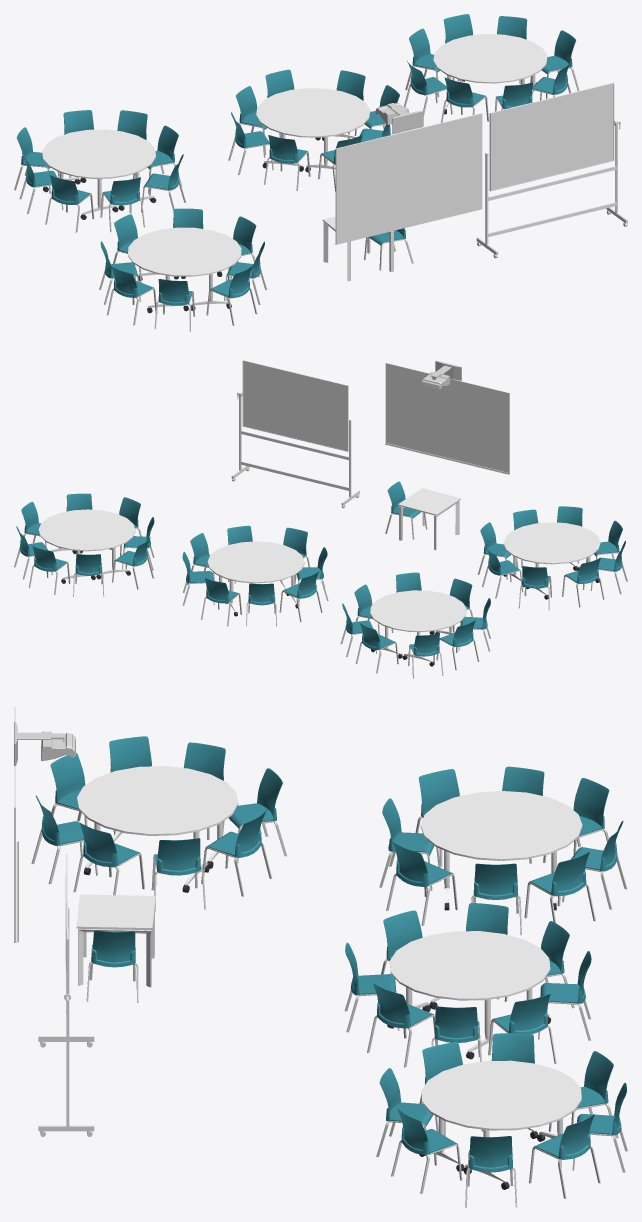
The model's file is SALLE_A3.fbx.
3 renders of one model, top to bottom at view 1: azimuth 30°, elevation 25°; view 2: azimuth 150°, elevation 25°; view 3: azimuth 270°, elevation 25°, orthographic. The views are drawn at different scales.
Parts seen in each view (by area): view 1: chaise_dossier_A3, table_ronde_A3, tableau_A3, tableau_roulant_A3, chaise_pieds_A3, tableau_projo_A3, table_simple_A3, table_ronde_roues_A3; view 2: chaise_dossier_A3, table_ronde_A3, tableau_A3, tableau_roulant_A3, chaise_pieds_A3, table_simple_A3, tableau_projo_A3; view 3: chaise_dossier_A3, table_ronde_A3, chaise_pieds_A3, table_simple_A3, tableau_roulant_A3, tableau_projo_A3, table_ronde_roues_A3, tableau_A3.
Boxes of the visible parts, x1,y1,x2,y2 form: chaise_dossier_A3: [16, 14, 576, 305]; table_ronde_A3: [42, 34, 547, 307]; tableau_A3: [335, 113, 482, 244]; tableau_roulant_A3: [476, 82, 627, 258]; chaise_pieds_A3: [14, 65, 579, 331]; tableau_projo_A3: [375, 103, 423, 134]; table_simple_A3: [322, 216, 393, 281]; table_ronde_roues_A3: [43, 80, 464, 313]; chaise_dossier_A3: [16, 481, 625, 656]; table_ronde_A3: [38, 509, 600, 662]; tableau_A3: [385, 363, 509, 474]; tableau_roulant_A3: [231, 360, 359, 508]; chaise_pieds_A3: [14, 512, 627, 678]; table_simple_A3: [398, 488, 460, 549]; tableau_projo_A3: [421, 360, 461, 389]; chaise_dossier_A3: [35, 736, 626, 1172]; table_ronde_A3: [77, 766, 582, 1182]; chaise_pieds_A3: [31, 803, 627, 1207]; table_simple_A3: [76, 894, 155, 987]; tableau_roulant_A3: [38, 854, 94, 1136]; tableau_projo_A3: [14, 722, 75, 765]; table_ronde_roues_A3: [83, 861, 556, 1189]; tableau_A3: [14, 707, 18, 942].
Bounding box in the file's own units: 942 × 272 × 607.
